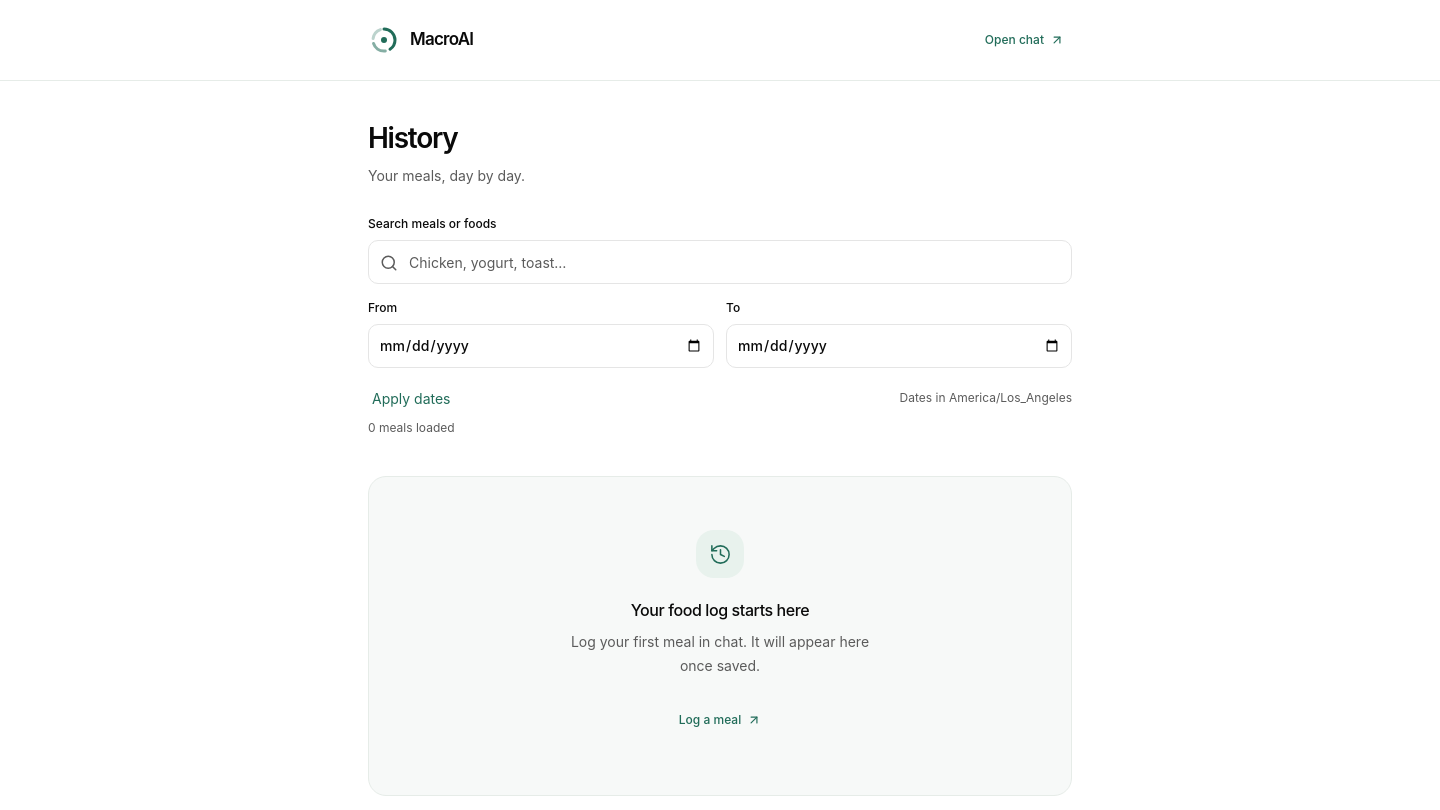
distinguishes an empty log from no search results and can clear the filters
Check: the heading "Your food log starts here" is shown, box [631,598,809,622]
Step 1. Type "missing" into the search field → [720, 262], box [368,240,1072,284]
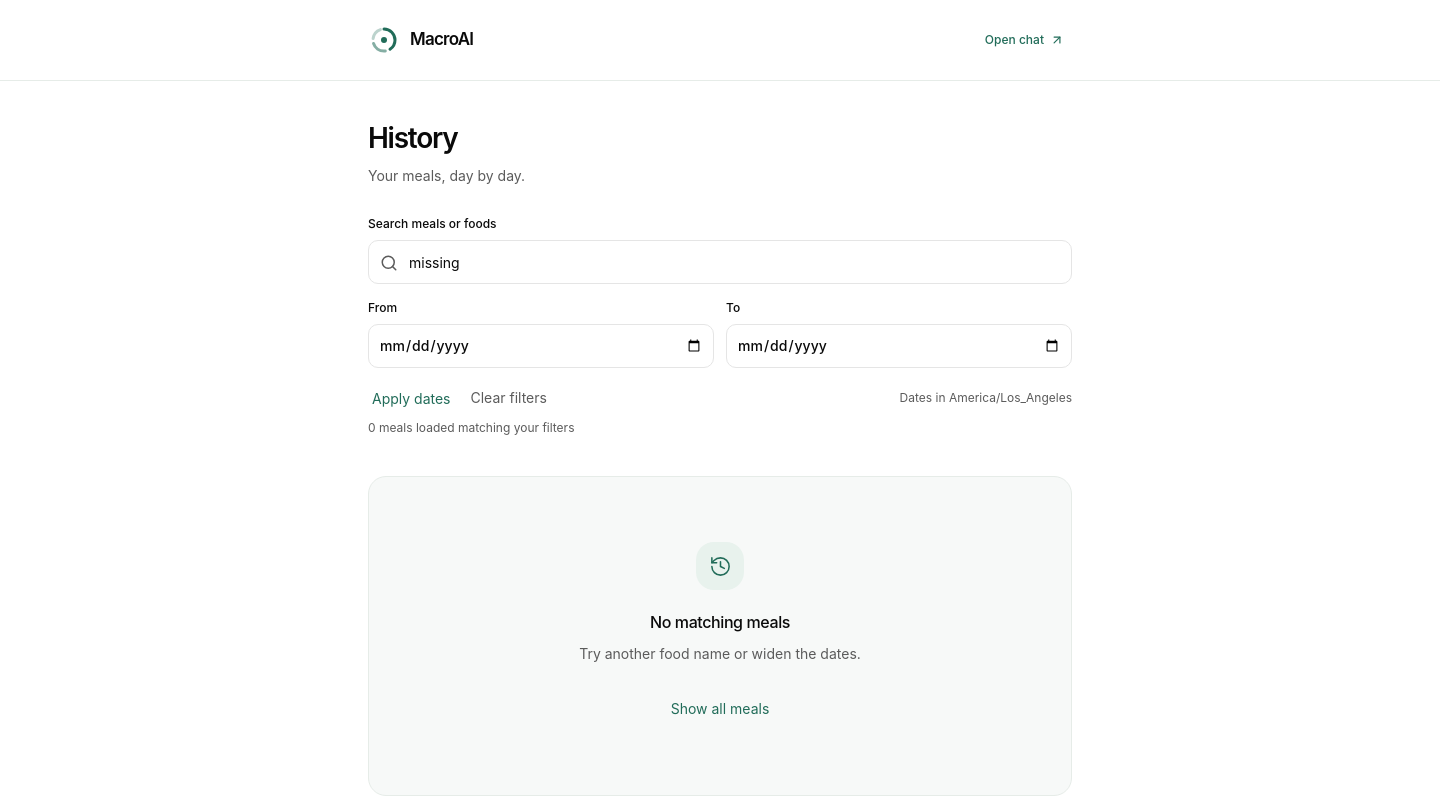
Check: the heading "No matching meals" is shown, box [650,610,790,634]
Step 2. Click the button "Clear filters" → [509, 398], box [470,376,547,420]
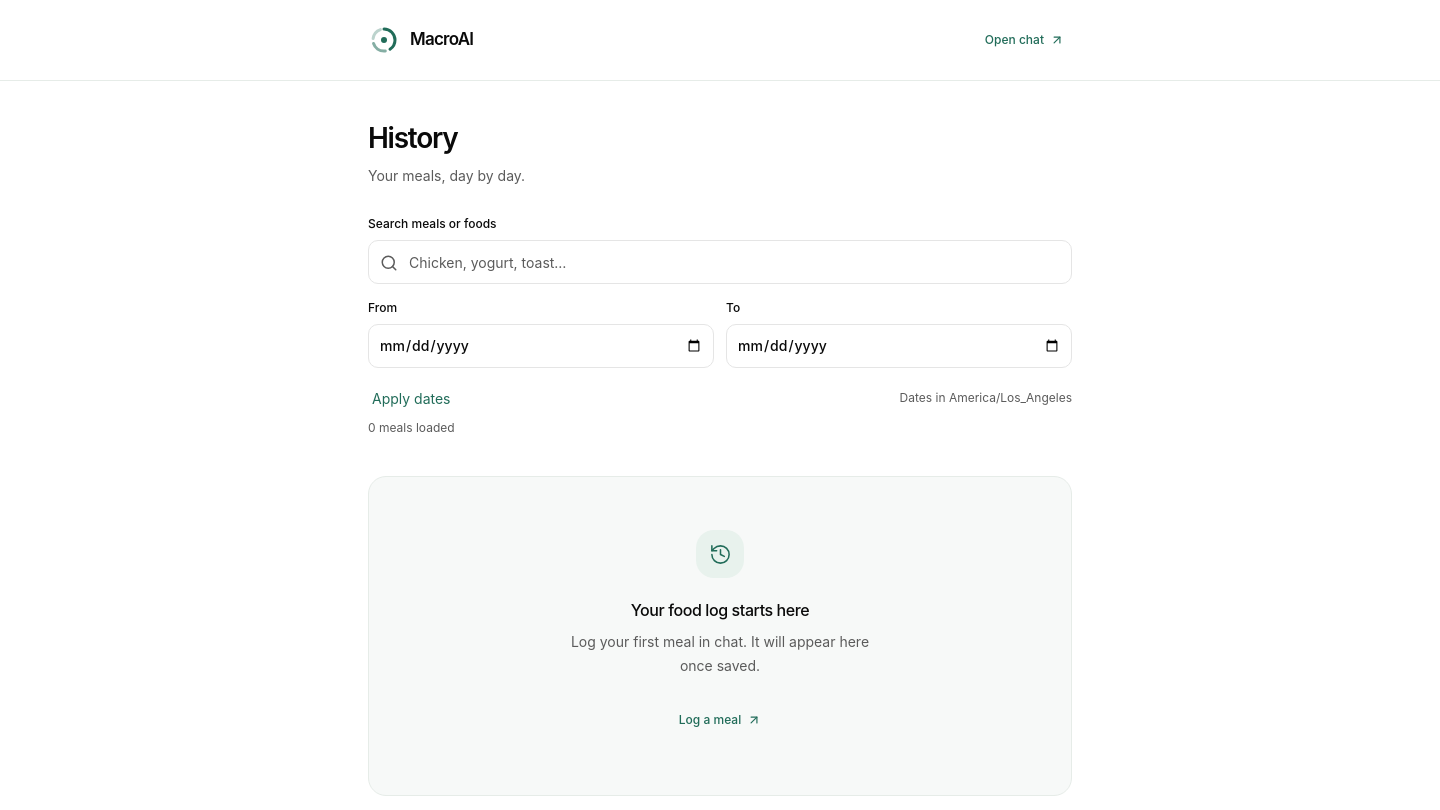
Check: the heading "Your food log starts here" is shown, box [631,598,809,622]
Check: the search field is empty, box [368,240,1072,284]
